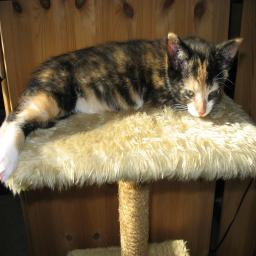catnose: (196, 102, 208, 118)
